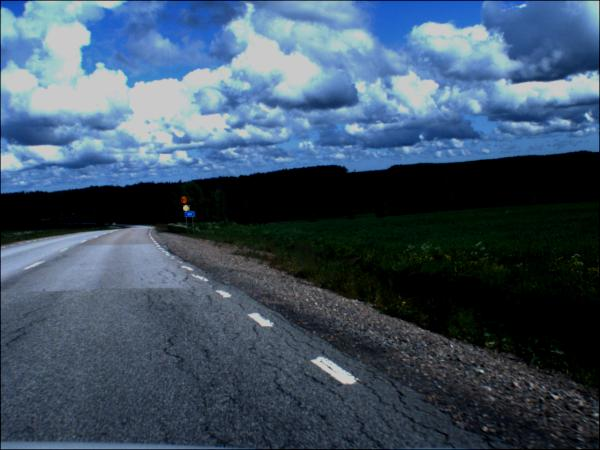80_SIGN: (183, 197, 191, 205)
PRIORITY_ROAD: (184, 206, 192, 213)
